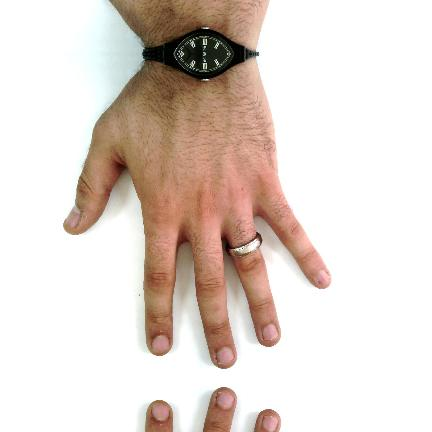Nail: (64, 204, 81, 228), (151, 335, 169, 353), (151, 403, 169, 421), (216, 347, 235, 364), (216, 392, 235, 409), (263, 325, 279, 341), (263, 415, 279, 431), (318, 270, 330, 285)
